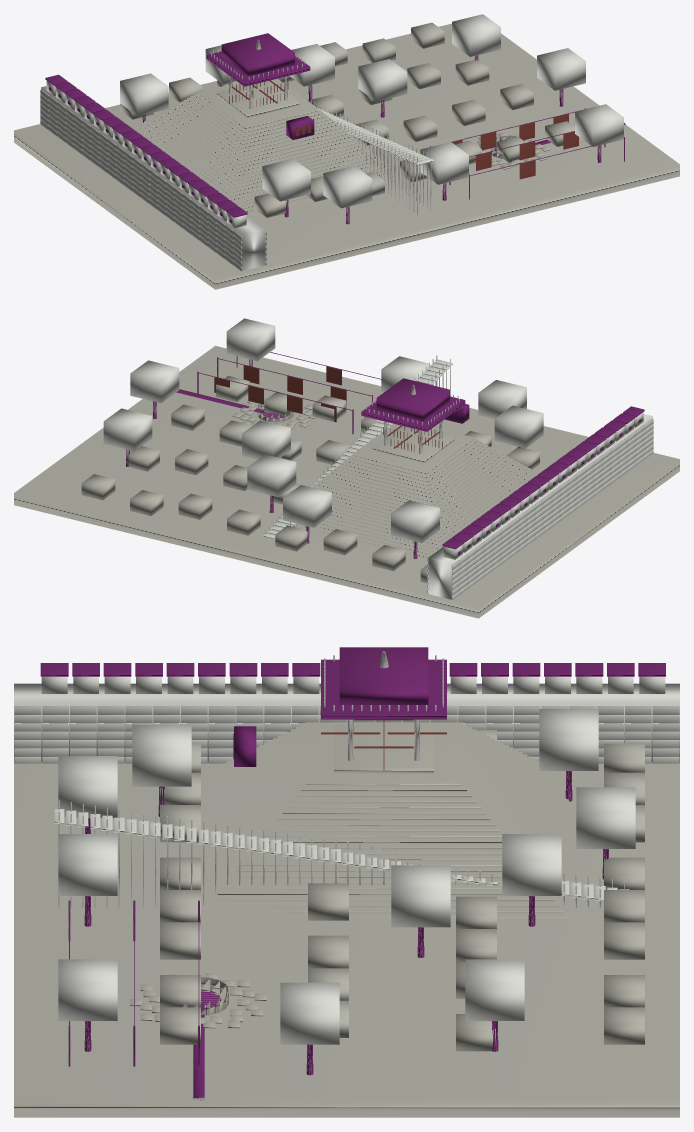
3 views of the same model, one above another, from view 1: azimuth 30°, elevation 25°; view 2: azimuth 150°, elevation 25°; view 3: azimuth 270°, elevation 25° (orthographic). The views are drawn at different scales.
Parts seen in each view (by area): view 1: dongmangbong_granite_ridge, dongmangbong_wall_and_pines, dongmangjeong_pavilion, jajudong_purple_fabrics; view 2: dongmangbong_granite_ridge, dongmangbong_wall_and_pines, dongmangjeong_pavilion, jajudong_purple_fabrics; view 3: dongmangbong_granite_ridge, dongmangbong_wall_and_pines, dongmangjeong_pavilion, jajudong_purple_fabrics.
Boxes of the visible parts, x1=… form: dongmangbong_granite_ridge: x1=14, y1=22, x2=679, y2=289; dongmangbong_wall_and_pines: x1=40, y1=14, x2=623, y2=270; dongmangjeong_pavilion: x1=206, y1=33, x2=310, y2=117; jajudong_purple_fabrics: x1=303, y1=97, x2=624, y2=214; dongmangbong_granite_ridge: x1=14, y1=345, x2=679, y2=618; dongmangbong_wall_and_pines: x1=103, y1=318, x2=653, y2=599; dongmangjeong_pavilion: x1=361, y1=378, x2=465, y2=462; jajudong_purple_fabrics: x1=197, y1=352, x2=452, y2=539; dongmangbong_granite_ridge: x1=14, y1=722, x2=679, y2=1117; dongmangbong_wall_and_pines: x1=14, y1=663, x2=679, y2=1075; dongmangjeong_pavilion: x1=321, y1=647, x2=446, y2=773; jajudong_purple_fabrics: x1=54, y1=800, x2=629, y2=1066.
Size of the model in its own units: 48 by 12.85 by 36.
Materials: 4 (4 with a texture image).
